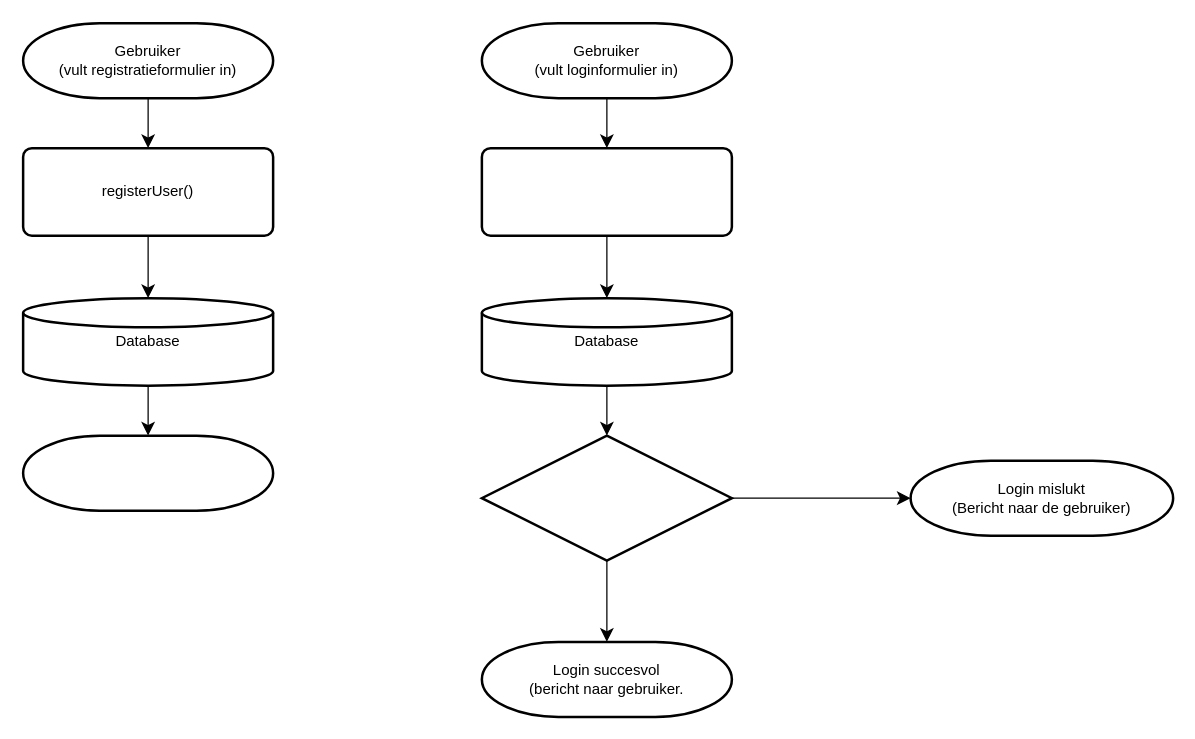
Some shapes in this 1195 by 739 pixel diagram are drawn without their labels. The shapes that lost their labels are listed below. From the top down, each one's centre as x and y in pixels, then its label:
the point at 606,191: loginUser()
the point at 147,472: Registratie succesvol (bericht naar gebruiker.
the point at 606,497: Wachtwoord vergeten?
